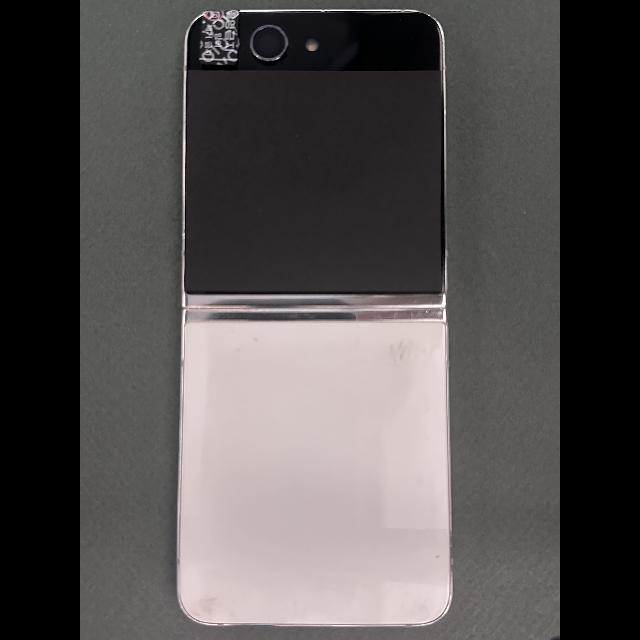lens: (250, 25, 288, 61)
phone: (177, 9, 453, 627)
sticker: (199, 11, 241, 66)
